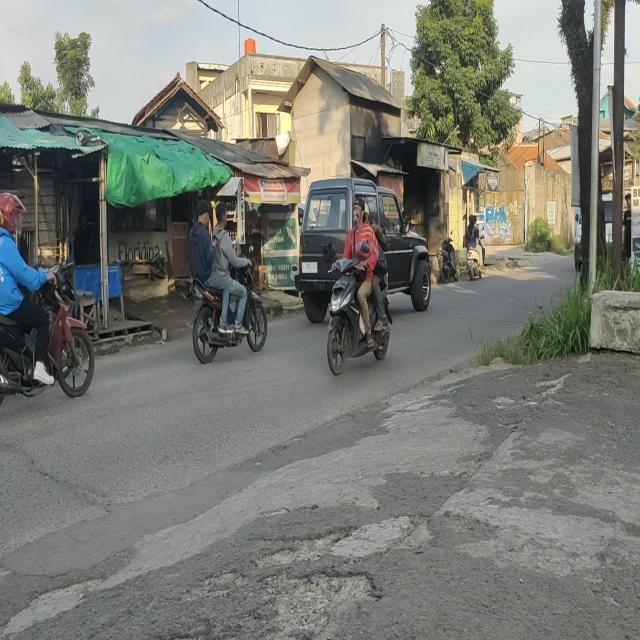helmet: (0, 187, 25, 234)
no-helmet: (351, 200, 365, 228), (198, 198, 210, 227), (216, 203, 228, 227), (363, 202, 371, 224), (468, 214, 473, 226), (473, 214, 478, 223)
